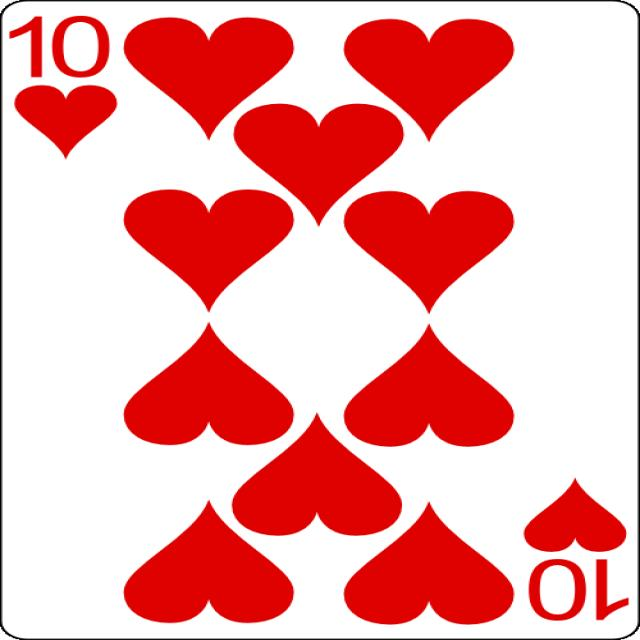Heart: (123, 17, 295, 141), (343, 501, 515, 625), (232, 412, 403, 536), (123, 499, 294, 623), (342, 19, 514, 142), (122, 322, 294, 445), (123, 189, 294, 312), (232, 104, 404, 226), (343, 191, 515, 313), (343, 324, 514, 446), (523, 478, 628, 552), (15, 85, 118, 159)
